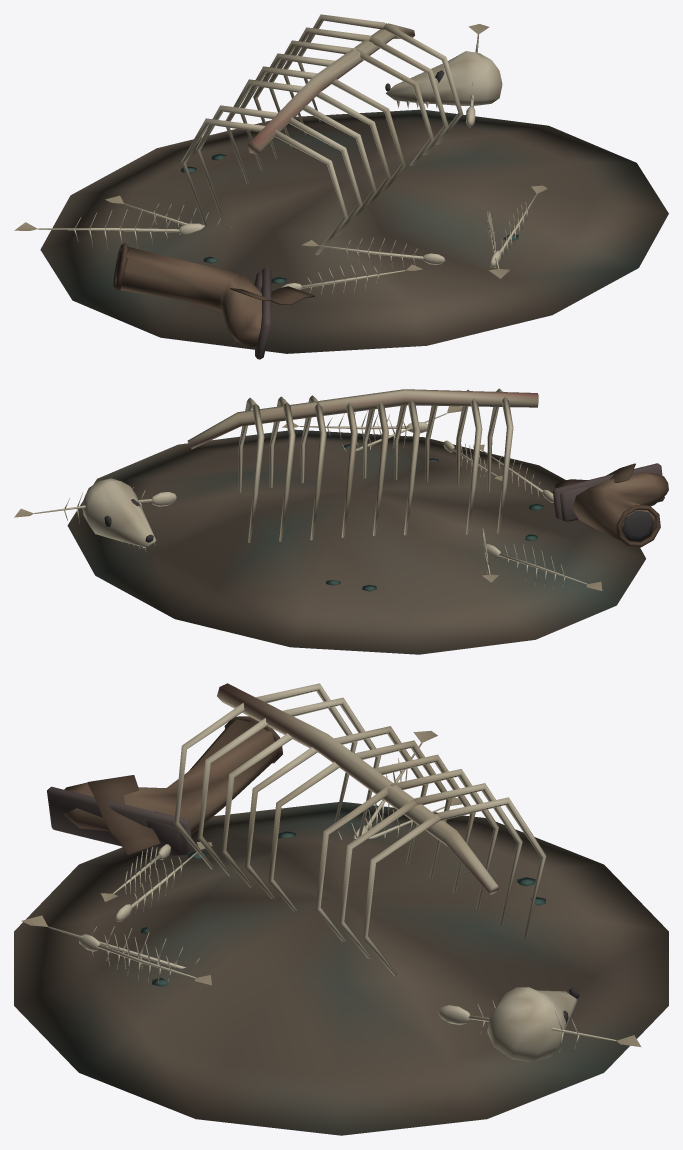
The model's file is camp_naga_midden.glb.
3 views of the same model, one above another, from view 1: azimuth 30°, elevation 25°; view 2: azimuth 150°, elevation 25°; view 3: azimuth 270°, elevation 25° (orthographic). The views are drawn at different scales.
Visible parts, largest first — view 1: camp_naga_midden; view 2: camp_naga_midden; view 3: camp_naga_midden.
Part boxes in pixels (left/top/right/bottom): camp_naga_midden: left=14, top=14, right=668, bottom=359; camp_naga_midden: left=14, top=388, right=668, bottom=654; camp_naga_midden: left=14, top=683, right=668, bottom=1135.
Size of what is drawn, in the model's own units: 1.49 by 0.4165 by 1.19.
